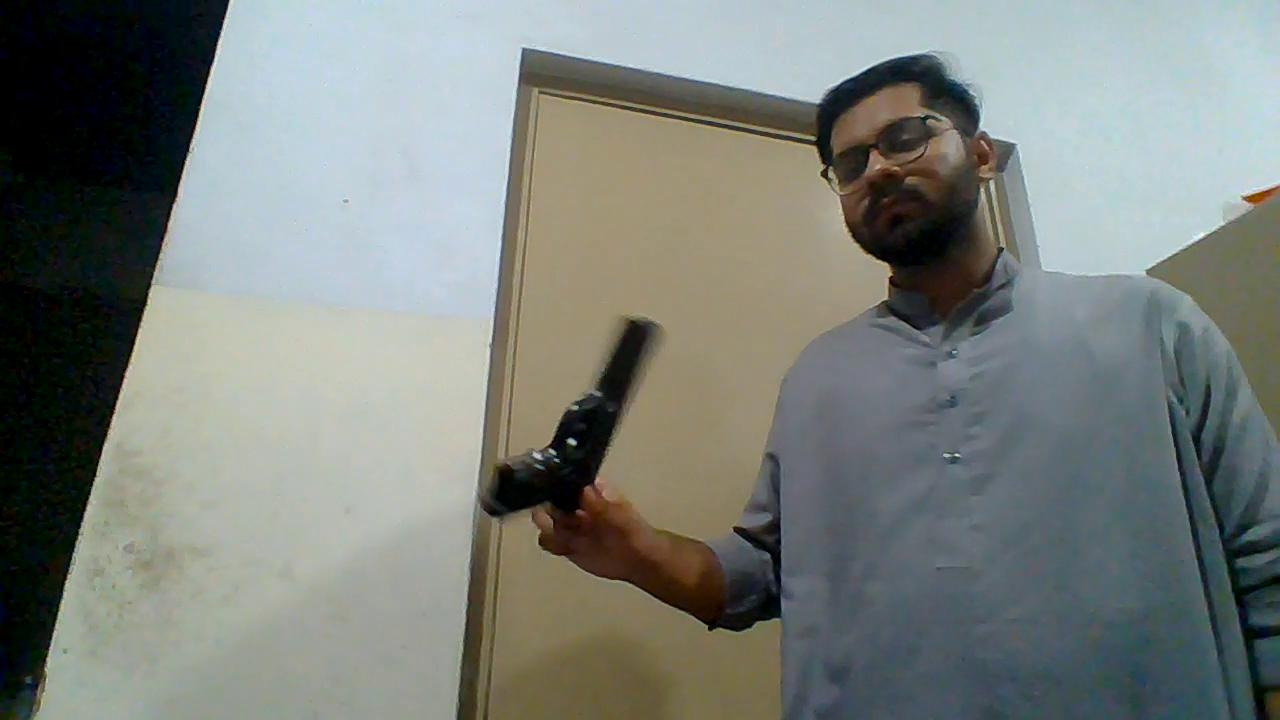criminal: (475, 53, 1280, 720)
weapon: (476, 313, 669, 518)
